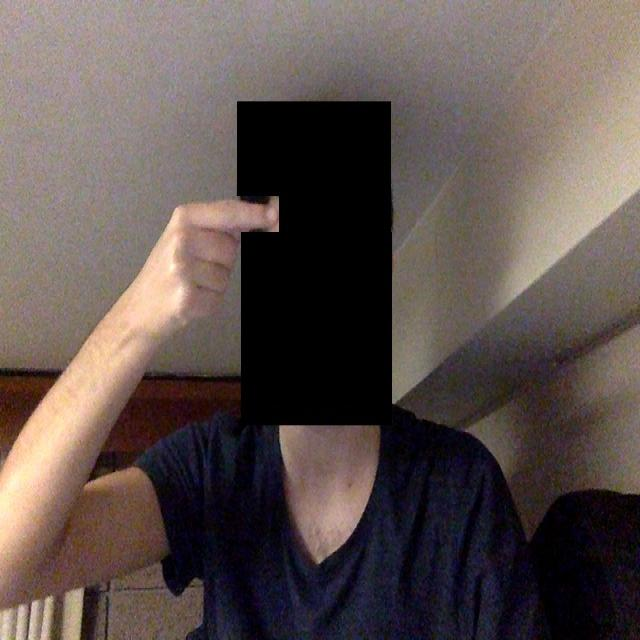G: (118, 143, 315, 370)
